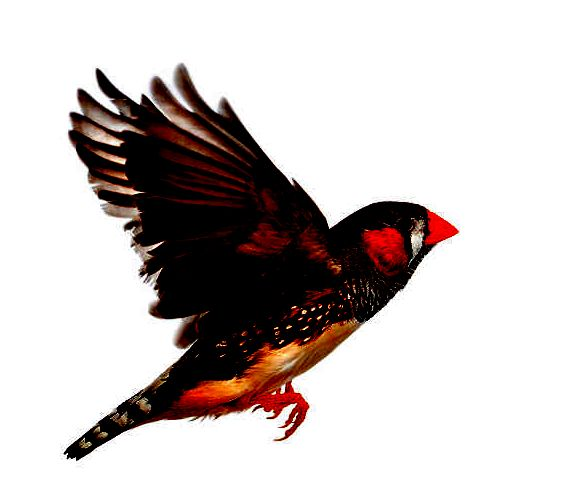Bird: (56, 52, 459, 465)
